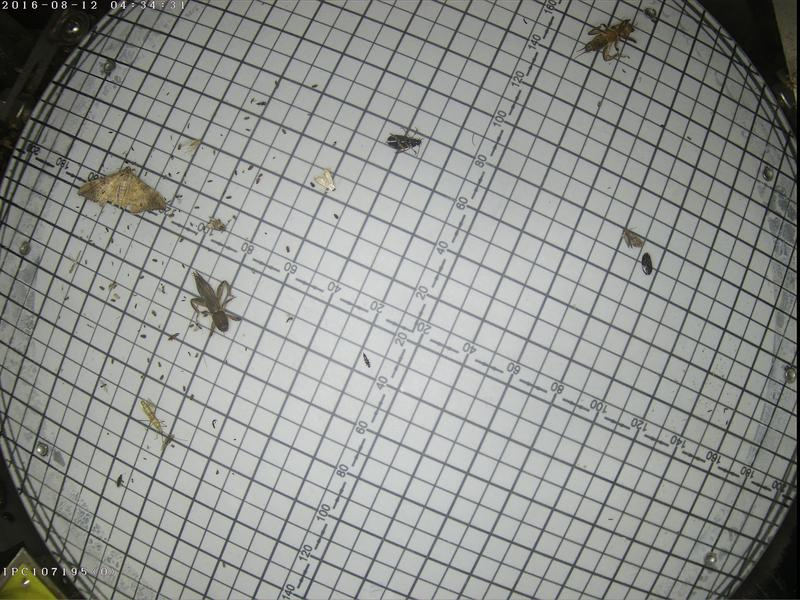Gryllotalpa orientalis: (187, 269, 240, 337), (567, 16, 636, 60)
Rice Leaf Roller: (311, 167, 338, 191)
